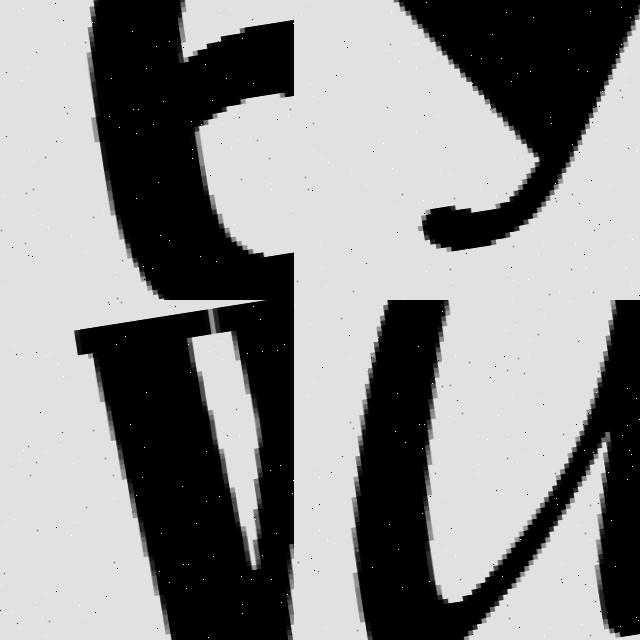6: (44, 0, 294, 300)
A: (294, 300, 640, 640)
W: (59, 300, 294, 640)
Y: (294, 0, 640, 276)
